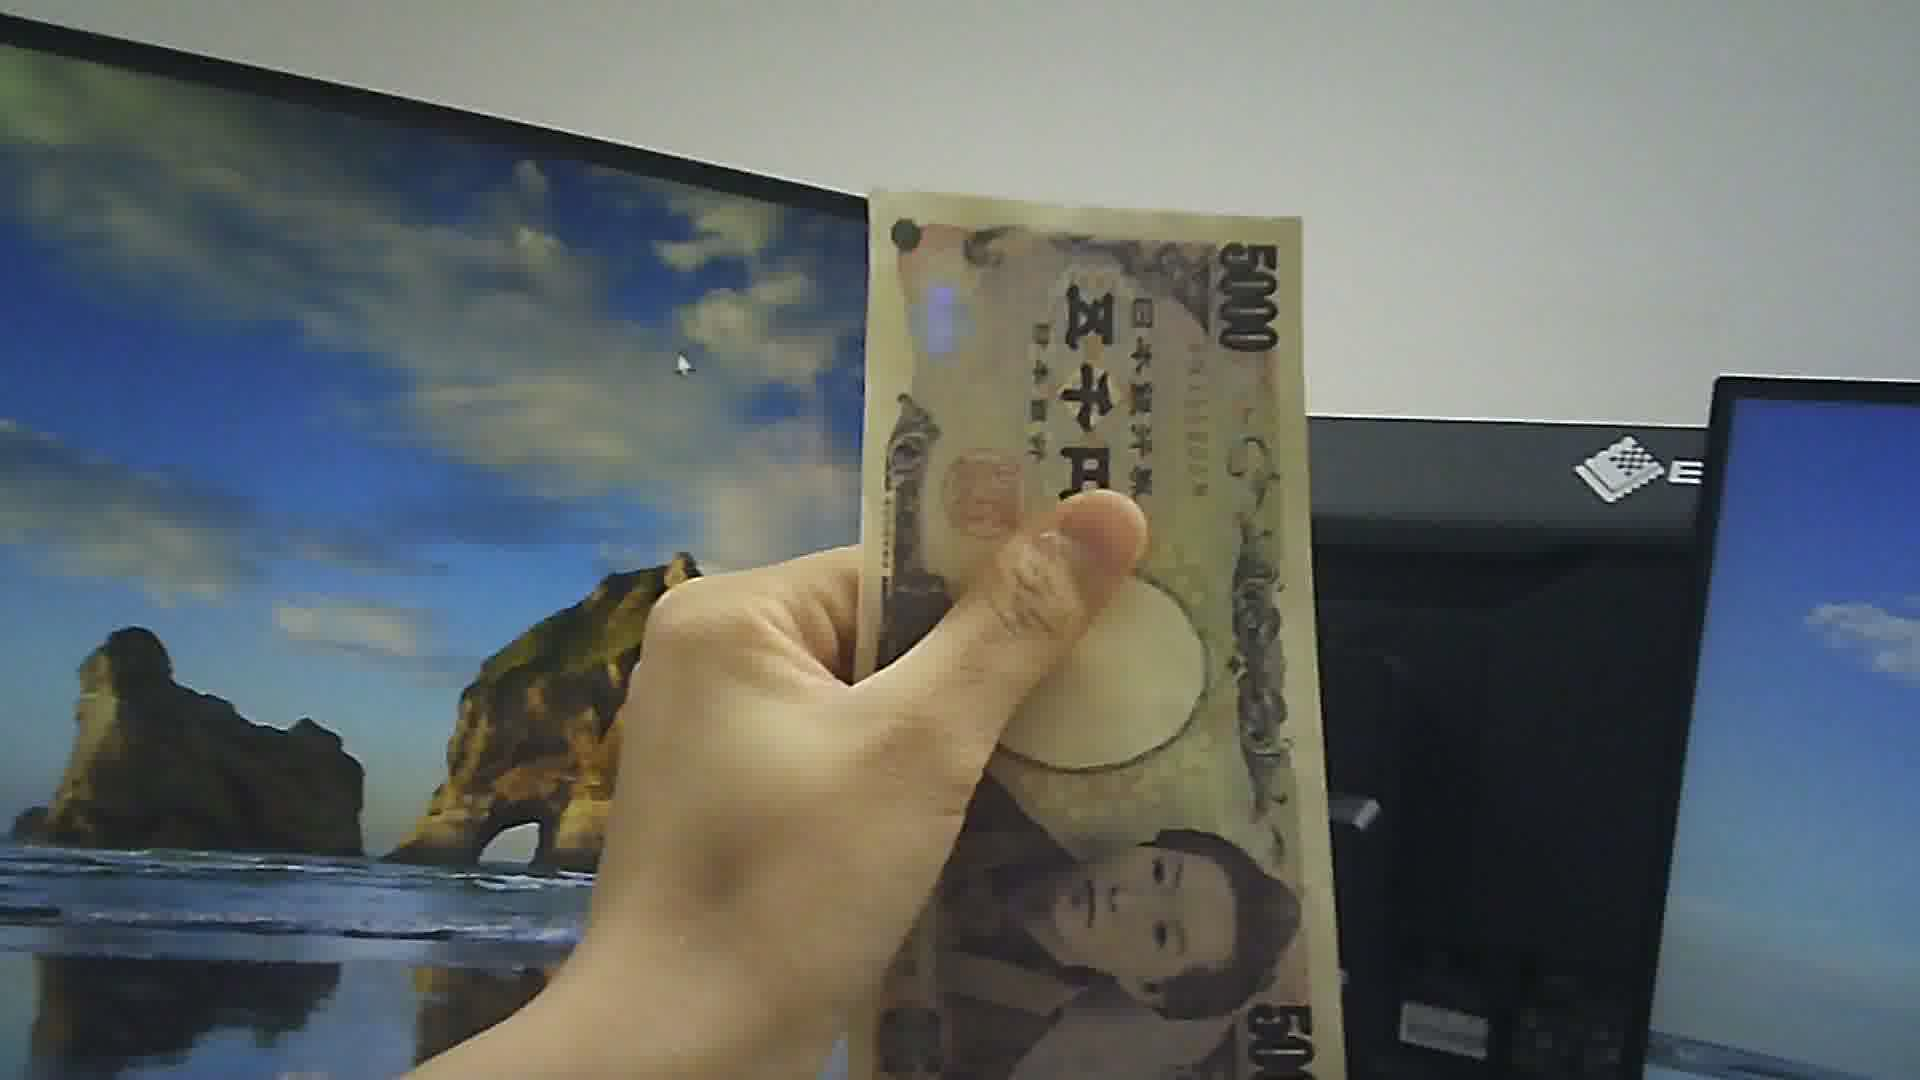5,000 Yen: (835, 175, 1352, 1079)
